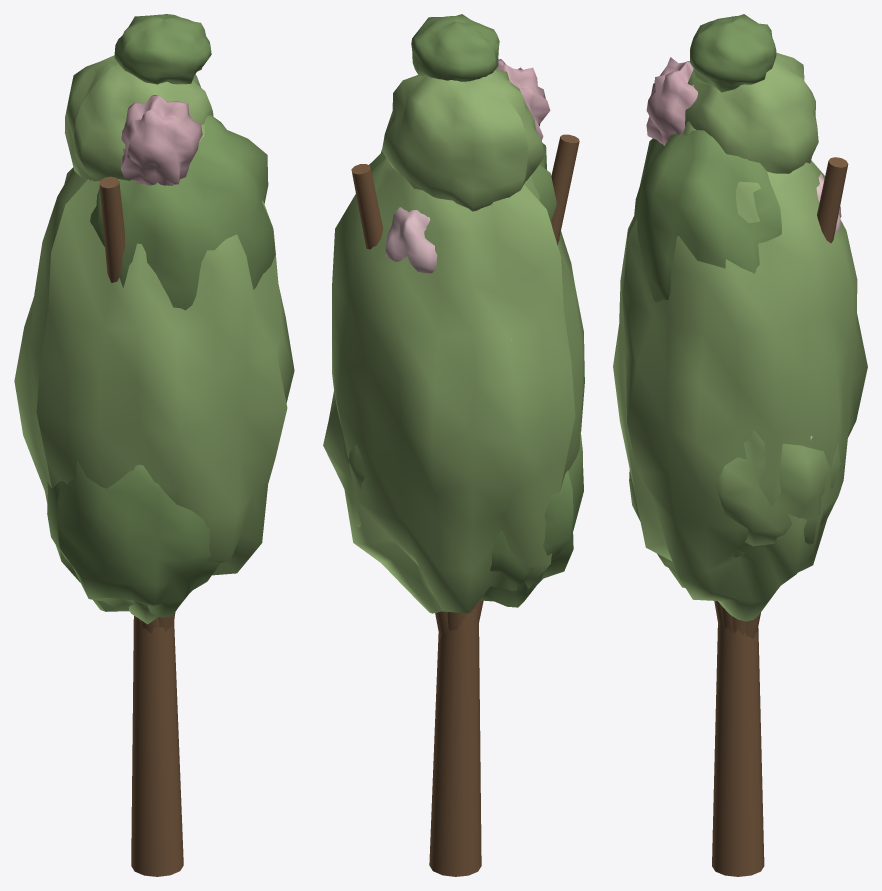
File: amanogawa.glb
The picture shows the model from 3 angles, left to right: view 1: azimuth 30°, elevation 25°; view 2: azimuth 150°, elevation 25°; view 3: azimuth 270°, elevation 25°; orthographic projection.
Parts seen in each view (by area): view 1: korona-1, korona-2, korona-4, torzs, korona-5, virag-4, korona-6, ag-3; view 2: korona-1, korona-5, torzs, korona-2, korona-6, virag-7, korona-3, ag-6, ag-3, virag-4, korona-4; view 3: korona-1, korona-4, torzs, korona-5, korona-3, korona-6, virag-4, ag-6.
Boxes of the visible parts, box(x1,y1,x2,y2) form: korona-1: box(14, 123, 294, 624); korona-2: box(47, 460, 219, 617); korona-4: box(90, 114, 275, 310); torzs: box(131, 616, 183, 876); korona-5: box(64, 55, 213, 181); virag-4: box(121, 95, 202, 185); korona-6: box(114, 14, 211, 84); ag-3: box(99, 176, 159, 633); korona-1: box(332, 158, 584, 613); korona-5: box(382, 69, 544, 211); torzs: box(429, 609, 481, 876); korona-2: box(479, 431, 583, 607); korona-6: box(411, 14, 499, 81); virag-7: box(385, 207, 437, 273); korona-3: box(323, 390, 365, 527); ag-6: box(351, 164, 448, 639); ag-3: box(475, 134, 579, 623); virag-4: box(496, 59, 550, 139); korona-4: box(369, 143, 559, 240); korona-1: box(613, 121, 867, 621); korona-4: box(634, 130, 781, 302); torzs: box(712, 622, 764, 876); korona-5: box(685, 52, 818, 173); korona-3: box(716, 430, 840, 558); korona-6: box(690, 14, 776, 92); virag-4: box(646, 57, 697, 145); ag-6: box(744, 157, 848, 638).
Bounding box in the file's own units: 1.98 × 6.77 × 1.85.
